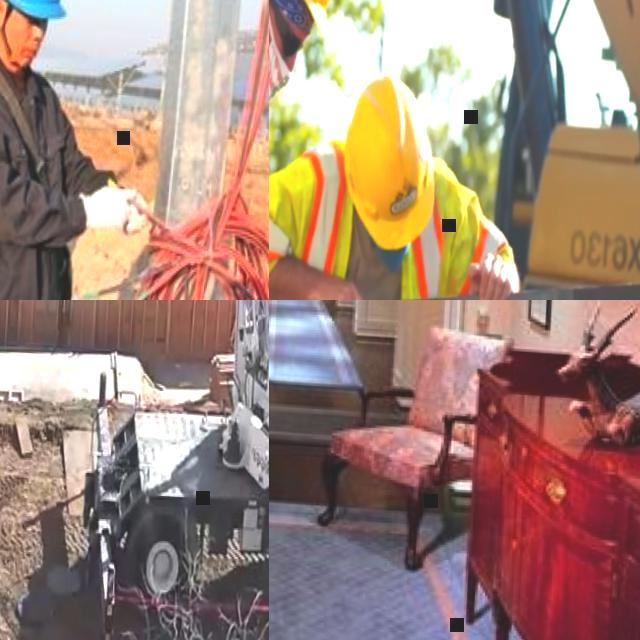helmet: (336, 74, 439, 254)
machinery: (71, 300, 269, 640), (458, 0, 640, 300)
mask: (269, 0, 298, 117), (367, 244, 408, 274)
no_mask: (8, 38, 37, 68)
no_vest: (0, 74, 71, 300)
person: (269, 66, 529, 300), (0, 0, 166, 300), (269, 0, 354, 300)
vest: (269, 138, 514, 300)
